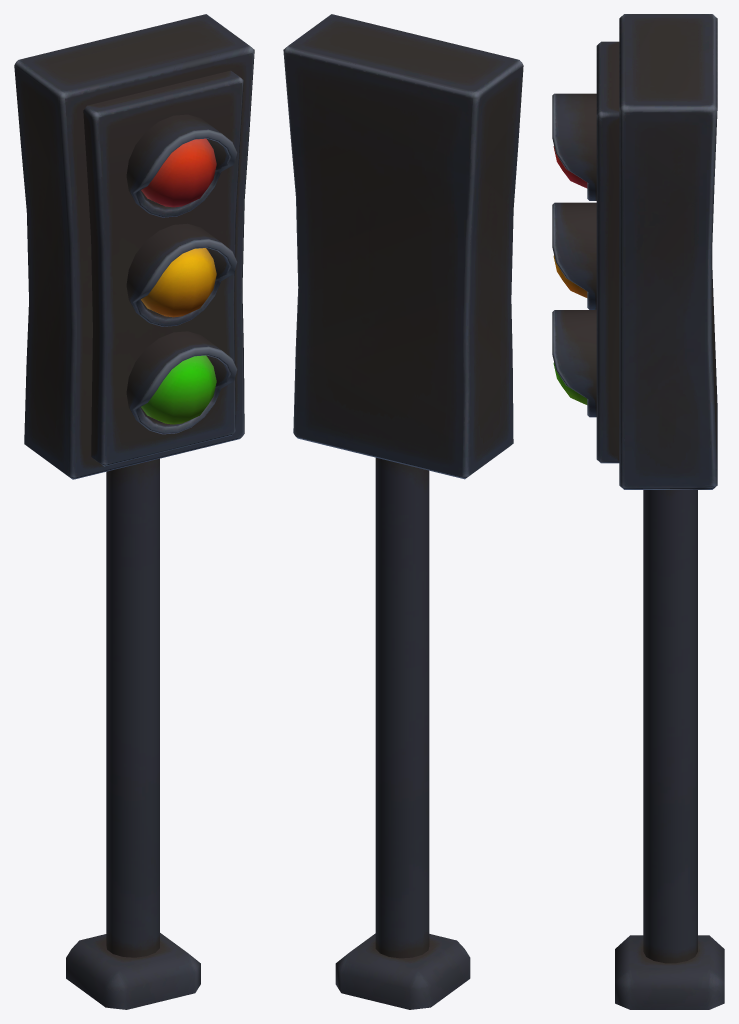
Rendered from Traffic_Light.fbx.
3 views of the same model, side by side, from view 1: azimuth 30°, elevation 25°; view 2: azimuth 150°, elevation 25°; view 3: azimuth 270°, elevation 25° (orthographic).
Visible parts, largest first — view 1: traffic_light_animated_01; view 2: traffic_light_animated_01; view 3: traffic_light_animated_01.
Part boxes in pixels (x1,y1,x2,y2): traffic_light_animated_01: [14, 14, 254, 1009]; traffic_light_animated_01: [283, 14, 523, 1009]; traffic_light_animated_01: [552, 14, 724, 1009].
Bounding box in the file's own units: 71.84 × 325 × 54.75.
